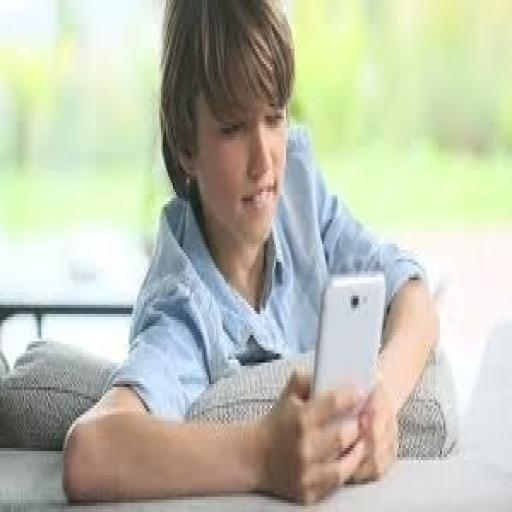texting: (60, 0, 449, 503)
